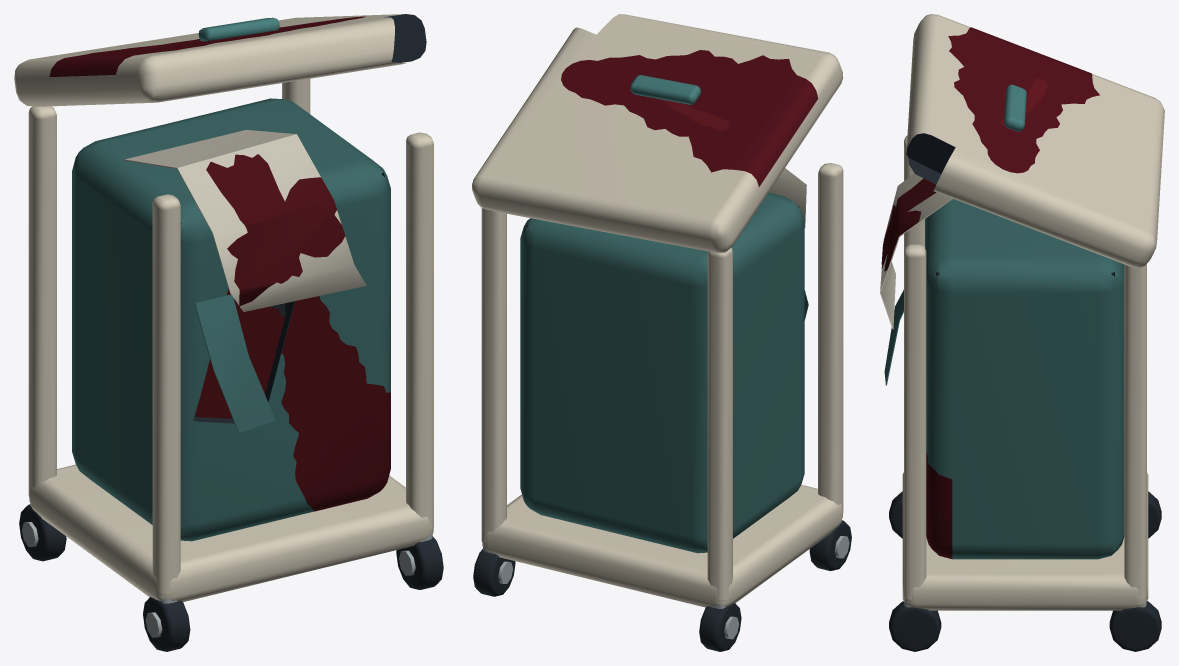
The model's file is laundry_hamper.glb.
The picture shows the model from 3 angles, left to right: view 1: azimuth 30°, elevation 25°; view 2: azimuth 150°, elevation 25°; view 3: azimuth 270°, elevation 25°; orthographic projection. The views are drawn at different scales.
Parts seen in each view (by area): view 1: Outbreak_Utility_Laundry_Hamper_Static; view 2: Outbreak_Utility_Laundry_Hamper_Static; view 3: Outbreak_Utility_Laundry_Hamper_Static.
Boxes of the visible parts, bbox=[...] form: Outbreak_Utility_Laundry_Hamper_Static: bbox=[14, 14, 443, 651]; Outbreak_Utility_Laundry_Hamper_Static: bbox=[472, 14, 851, 651]; Outbreak_Utility_Laundry_Hamper_Static: bbox=[880, 14, 1164, 651].
Bounding box in the file's own units: 0.6002 × 1.15 × 0.5682.
